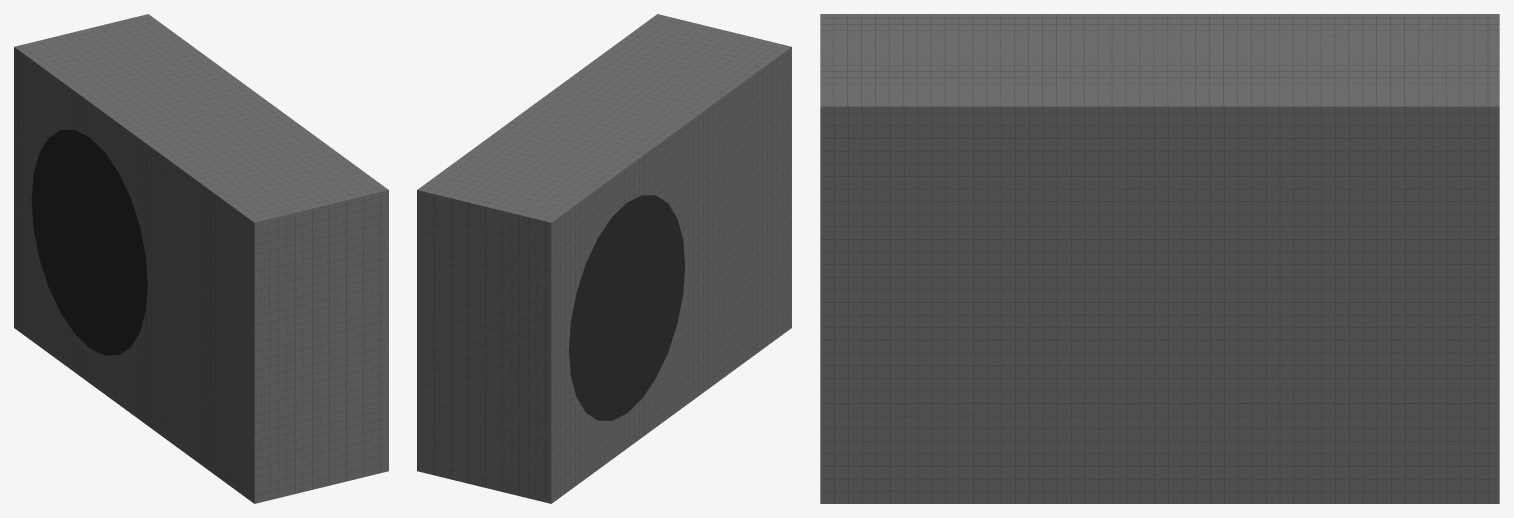
Rendered from modularBuildings_073.obj.
3 views of the same model, side by side, from view 1: azimuth 30°, elevation 25°; view 2: azimuth 150°, elevation 25°; view 3: azimuth 270°, elevation 25° (orthographic). The views are drawn at different scales.
Visible parts, largest first — view 1: Mesh1 Group1 Model; view 2: Mesh1 Group1 Model; view 3: Mesh1 Group1 Model.
Boxes of the visible parts, <box> form: Mesh1 Group1 Model: <box>14,14,388,503</box>; Mesh1 Group1 Model: <box>417,14,791,503</box>; Mesh1 Group1 Model: <box>820,14,1499,503</box>.
Size of the model in its own units: 0.1 by 0.2 by 0.31.
Materials: 2 (2 with a texture image).
